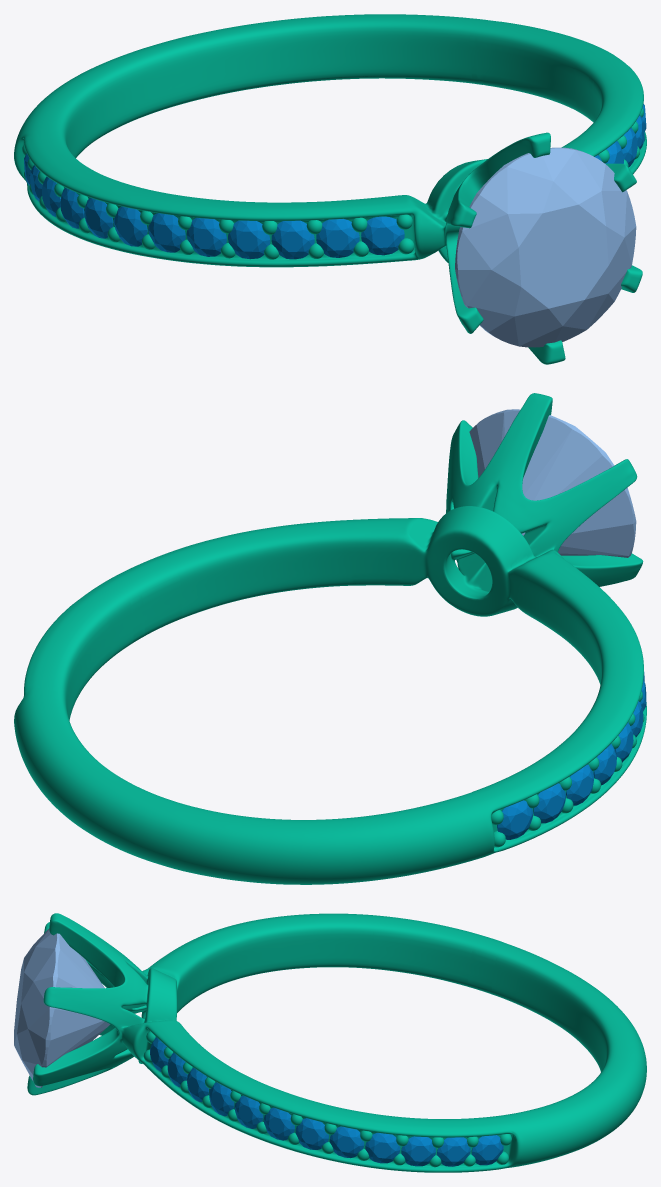
3 views of the same model, one above another, from view 1: azimuth 30°, elevation 25°; view 2: azimuth 150°, elevation 25°; view 3: azimuth 270°, elevation 25° (orthographic). The views are drawn at different scales.
Visible parts, largest first — view 1: 1D.3dm, Diamond_Round (×10); view 2: 1D.3dm, Diamond_Round (×4); view 3: 1D.3dm, Diamond_Round (×13).
Boxes of the visible parts, x1,y1,x2,y2 form: 1D.3dm: (14,14,646,364); Diamond_Round (×10): (60,147,636,347); 1D.3dm: (14,393,646,884); Diamond_Round (×4): (469,409,636,839); 1D.3dm: (27,913,646,1172); Diamond_Round (×13): (14,928,503,1166).
Size of the model in its own units: 2.44 by 0.9277 by 3.03.
